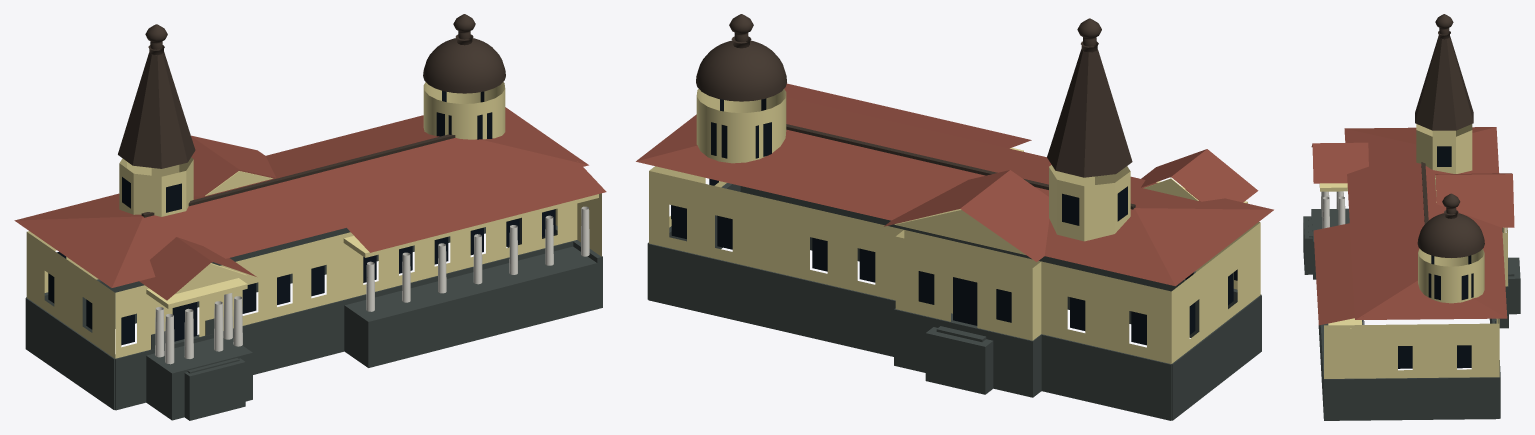
File: vseh_svyatyh.lod.glb
3 renders of one model, left to right at view 1: azimuth 30°, elevation 25°; view 2: azimuth 150°, elevation 25°; view 3: azimuth 270°, elevation 25°, orthographic. The views are drawn at different scales.
Visible parts, largest first — view 1: vseh_svyatyh_wall2, vseh_svyatyh_stone, vseh_svyatyh_wall, vseh_svyatyh_roof, vseh_svyatyh_trim_s, vseh_svyatyh_glass; view 2: vseh_svyatyh_wall, vseh_svyatyh_wall2, vseh_svyatyh_stone, vseh_svyatyh_roof, vseh_svyatyh_glass; view 3: vseh_svyatyh_wall2, vseh_svyatyh_wall, vseh_svyatyh_stone, vseh_svyatyh_roof, vseh_svyatyh_glass, vseh_svyatyh_trim_s.
Part boxes in pixels (left/top/right/bottom): vseh_svyatyh_wall2: left=14, top=107, right=606, bottom=300; vseh_svyatyh_stone: left=25, top=217, right=602, bottom=420; vseh_svyatyh_wall: left=26, top=82, right=601, bottom=358; vseh_svyatyh_roof: left=118, top=14, right=505, bottom=217; vseh_svyatyh_trim_s: left=155, top=206, right=589, bottom=364; vseh_svyatyh_glass: left=48, top=91, right=555, bottom=345; vseh_svyatyh_wall: left=649, top=89, right=1260, bottom=363; vseh_svyatyh_wall2: left=636, top=83, right=1273, bottom=286; vseh_svyatyh_stone: left=647, top=183, right=1261, bottom=420; vseh_svyatyh_roof: left=696, top=14, right=1135, bottom=209; vseh_svyatyh_glass: left=671, top=98, right=1237, bottom=345; vseh_svyatyh_wall2: left=1311, top=127, right=1514, bottom=325; vseh_svyatyh_wall: left=1319, top=124, right=1507, bottom=378; vseh_svyatyh_stone: left=1303, top=208, right=1520, bottom=420; vseh_svyatyh_roof: left=1415, top=14, right=1484, bottom=257; vseh_svyatyh_glass: left=1363, top=146, right=1503, bottom=368; vseh_svyatyh_trim_s: left=1321, top=191, right=1345, bottom=228.
Size of the model in its own units: 30.94 by 19.36 by 14.69.
